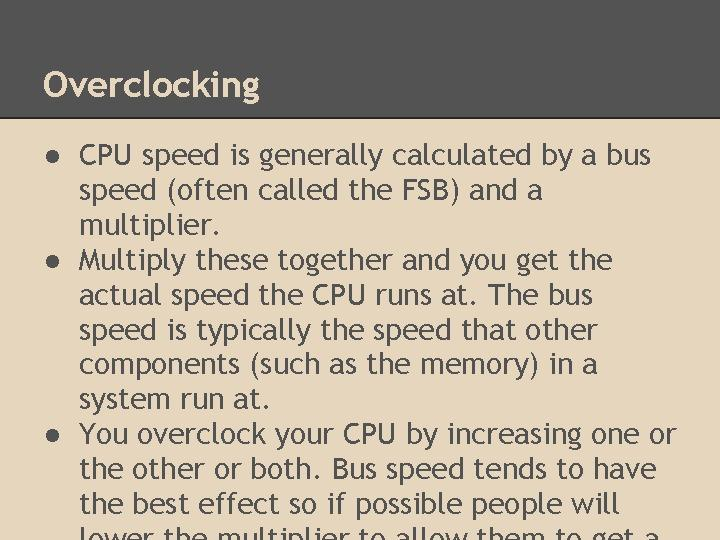paragraph: (30, 133, 688, 540)
title: (36, 57, 277, 110)
